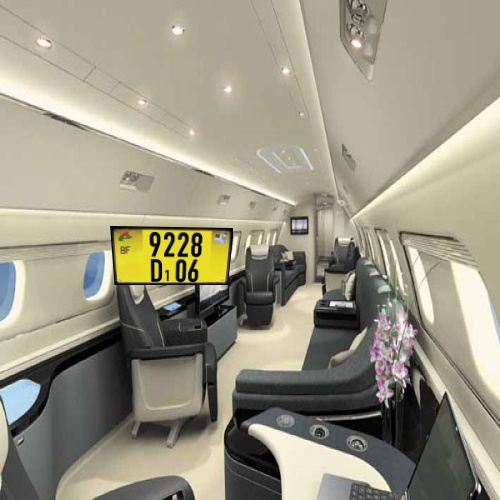plate: (101, 205, 251, 302)
